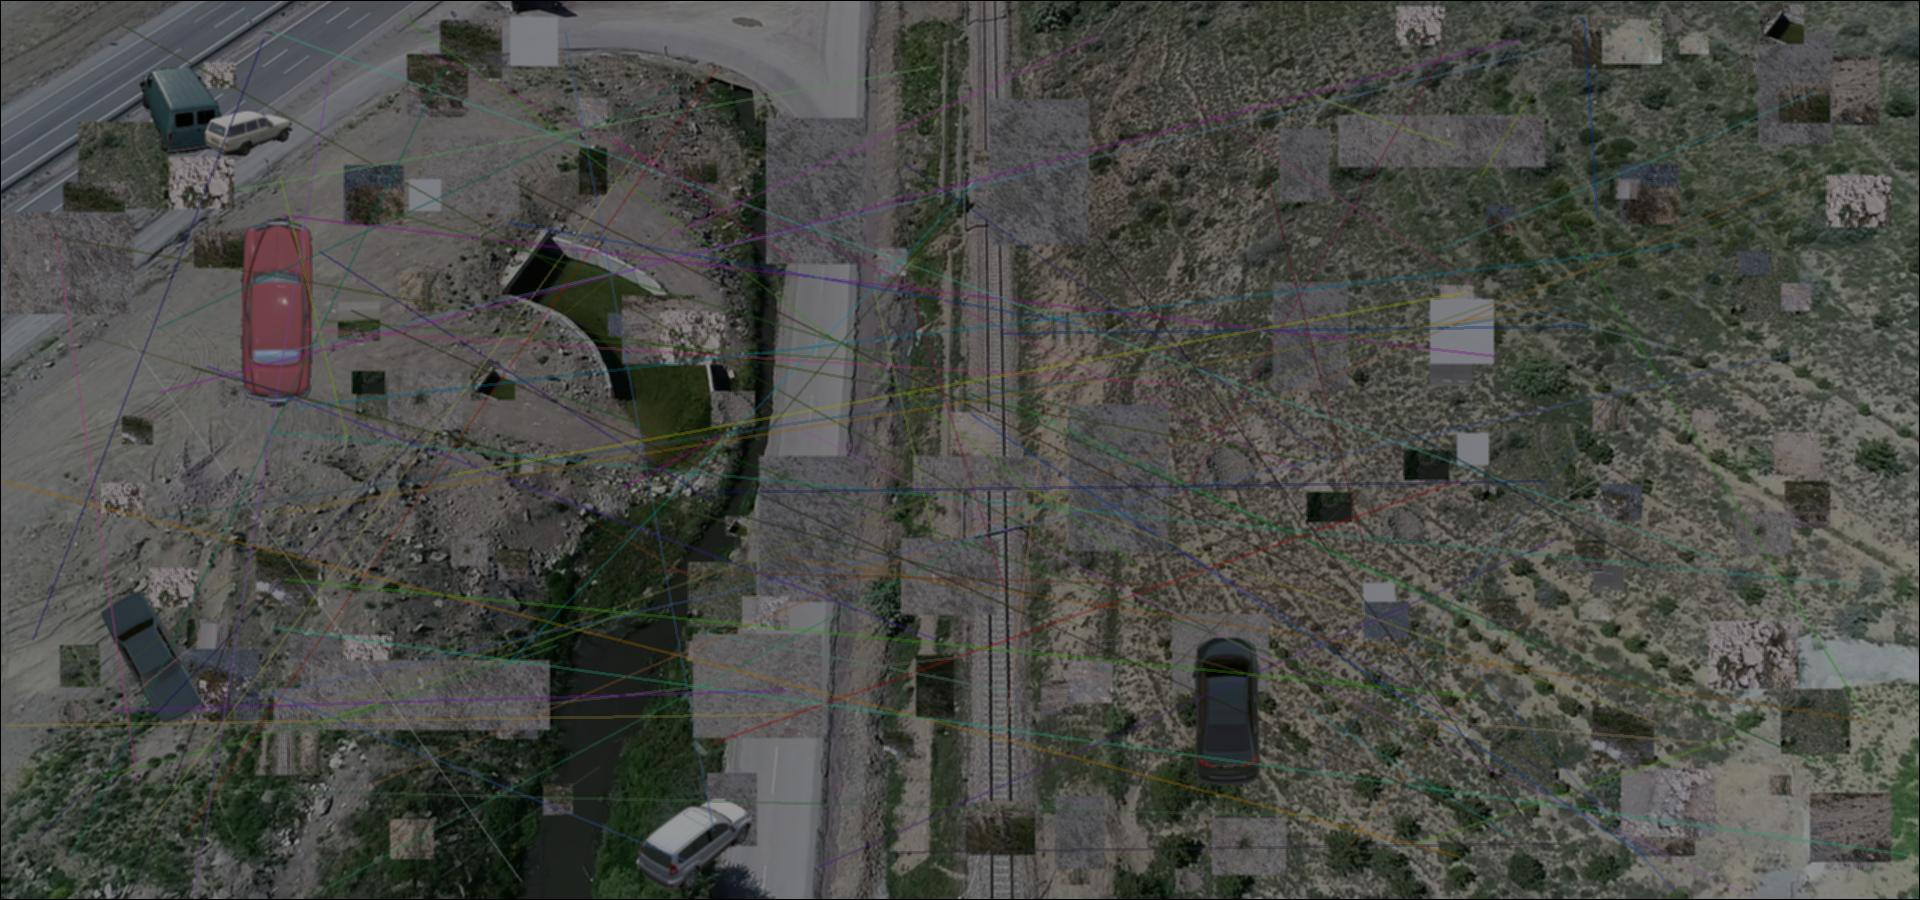arac: (236, 216, 322, 409), (100, 590, 204, 722), (634, 789, 756, 891), (1187, 638, 1266, 789), (140, 69, 227, 154), (204, 110, 294, 157)
